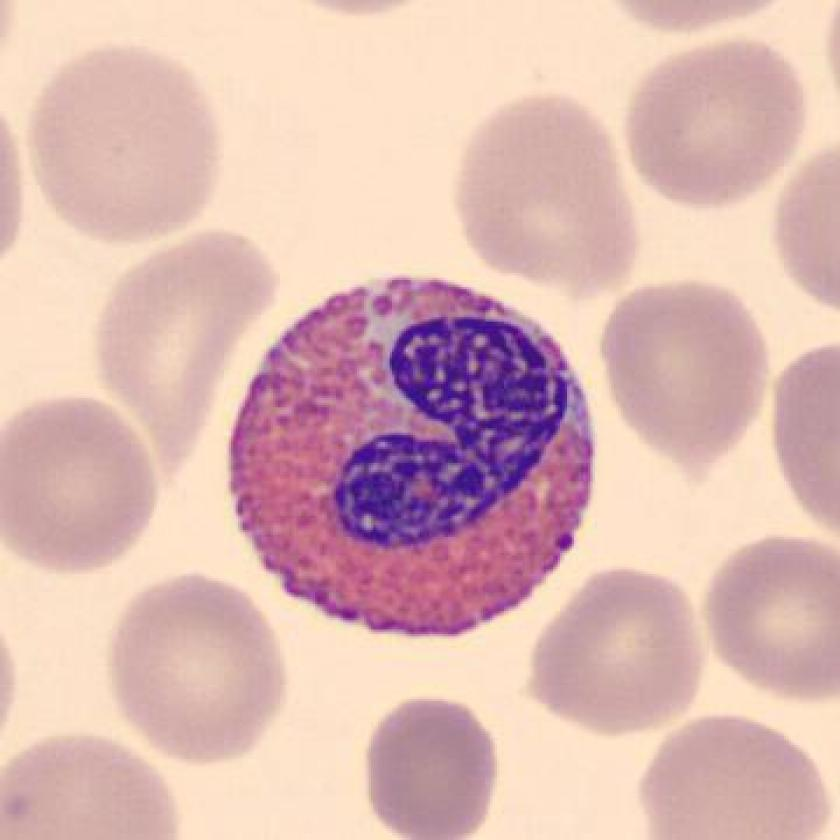eosinophil: (220, 263, 608, 647)
